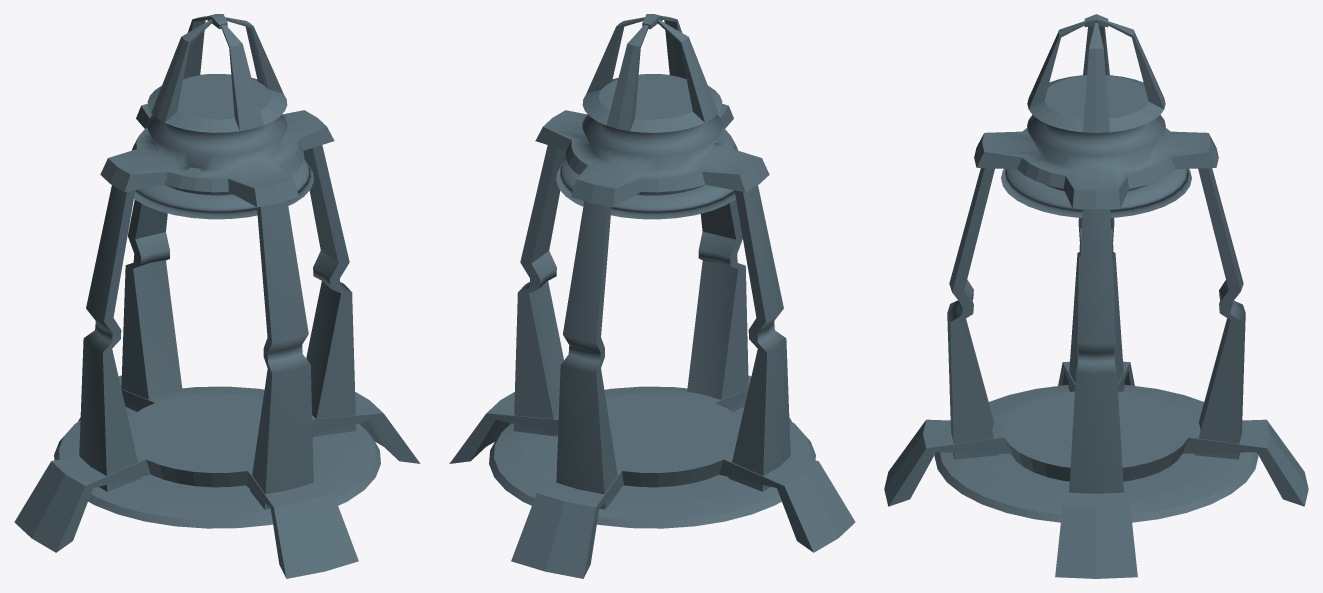
The model's file is lantern_03.fbx.
3 renders of one model, left to right at view 1: azimuth 30°, elevation 25°; view 2: azimuth 150°, elevation 25°; view 3: azimuth 270°, elevation 25°, orthographic.
Visible parts, largest first — view 1: lantern; view 2: lantern; view 3: lantern.
Boxes of the visible parts, x1=… form: lantern: x1=14, y1=14, x2=420, y2=578; lantern: x1=449, y1=14, x2=855, y2=578; lantern: x1=884, y1=14, x2=1308, y2=578.
Bounding box in the file's own units: 0.341 × 0.4188 × 0.341.
1 material, 1 textured.
